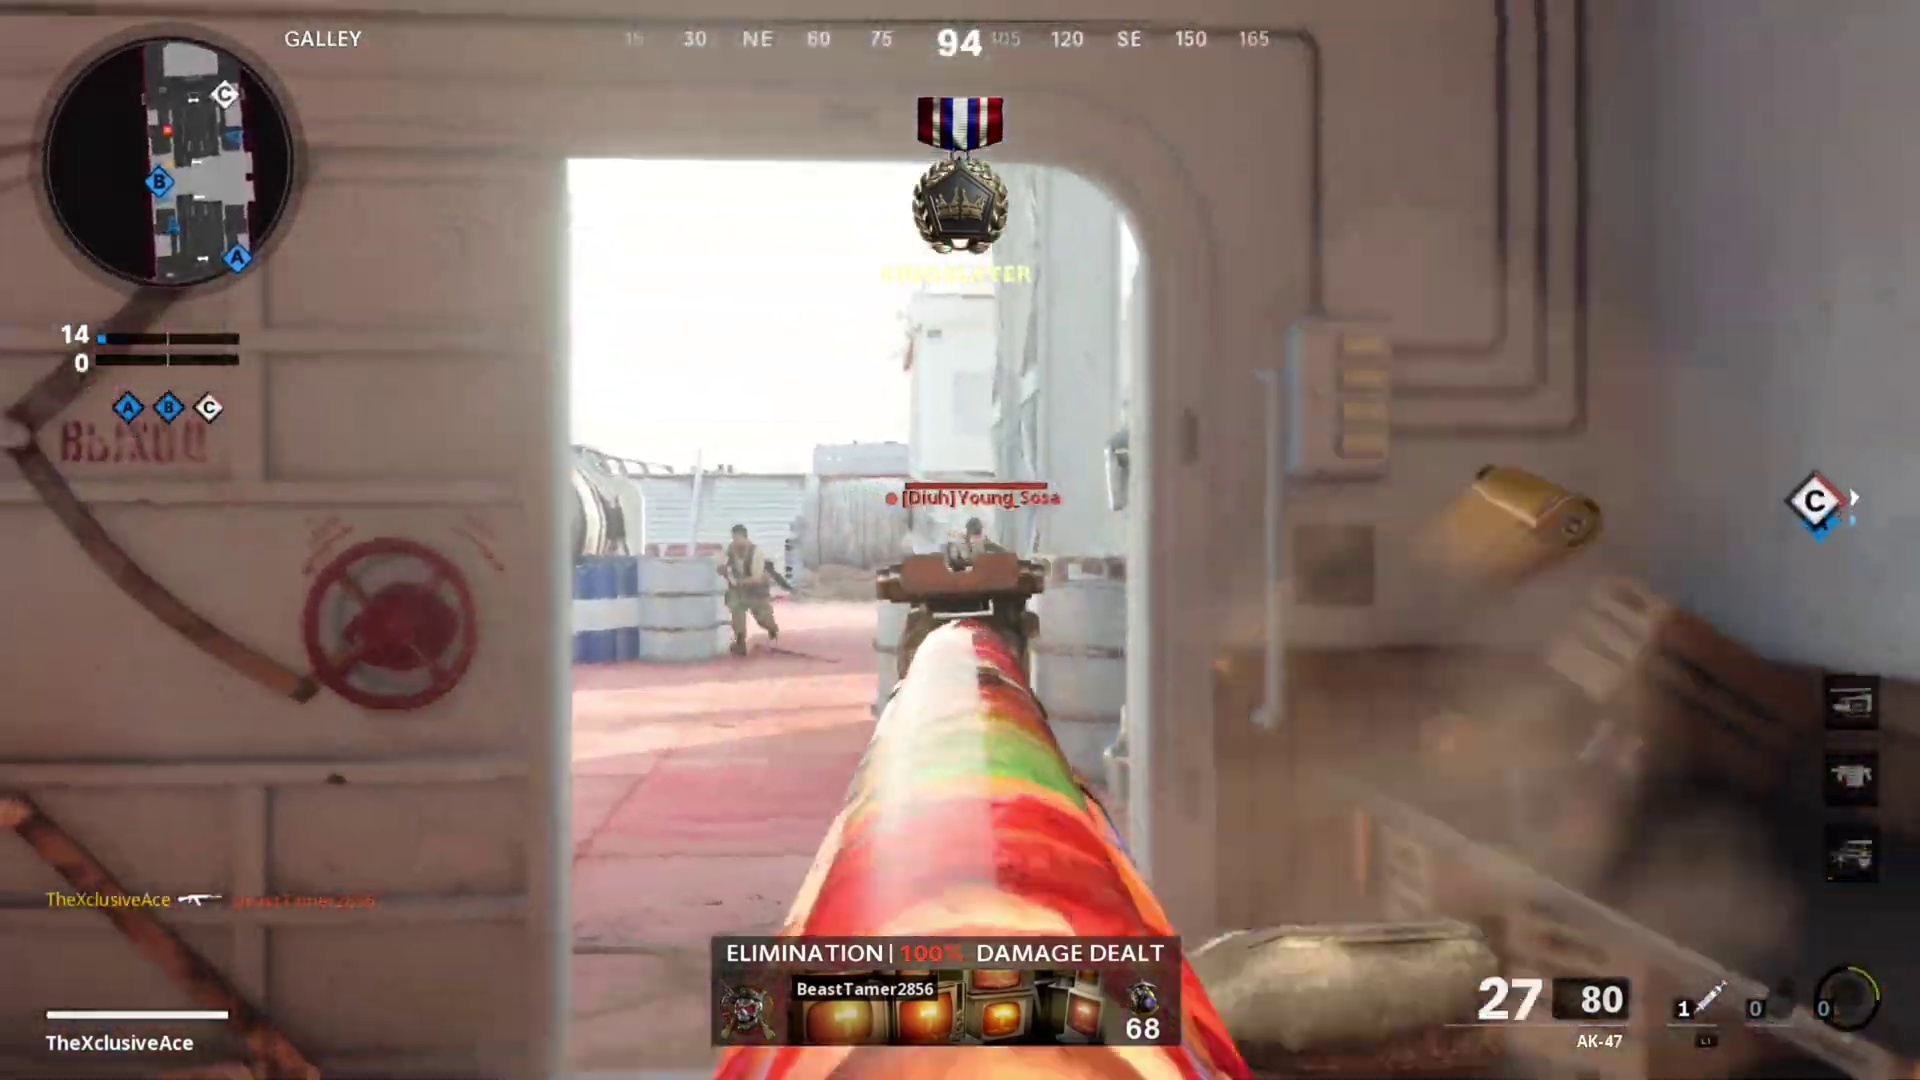head: (956, 516, 987, 546), (728, 522, 751, 555)
person: (716, 522, 779, 655)
